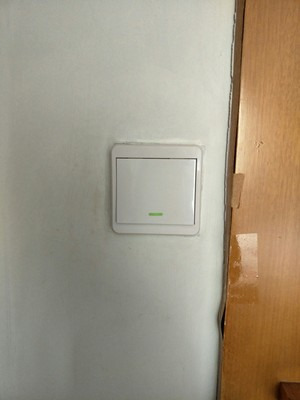switch: (110, 152, 205, 240)
